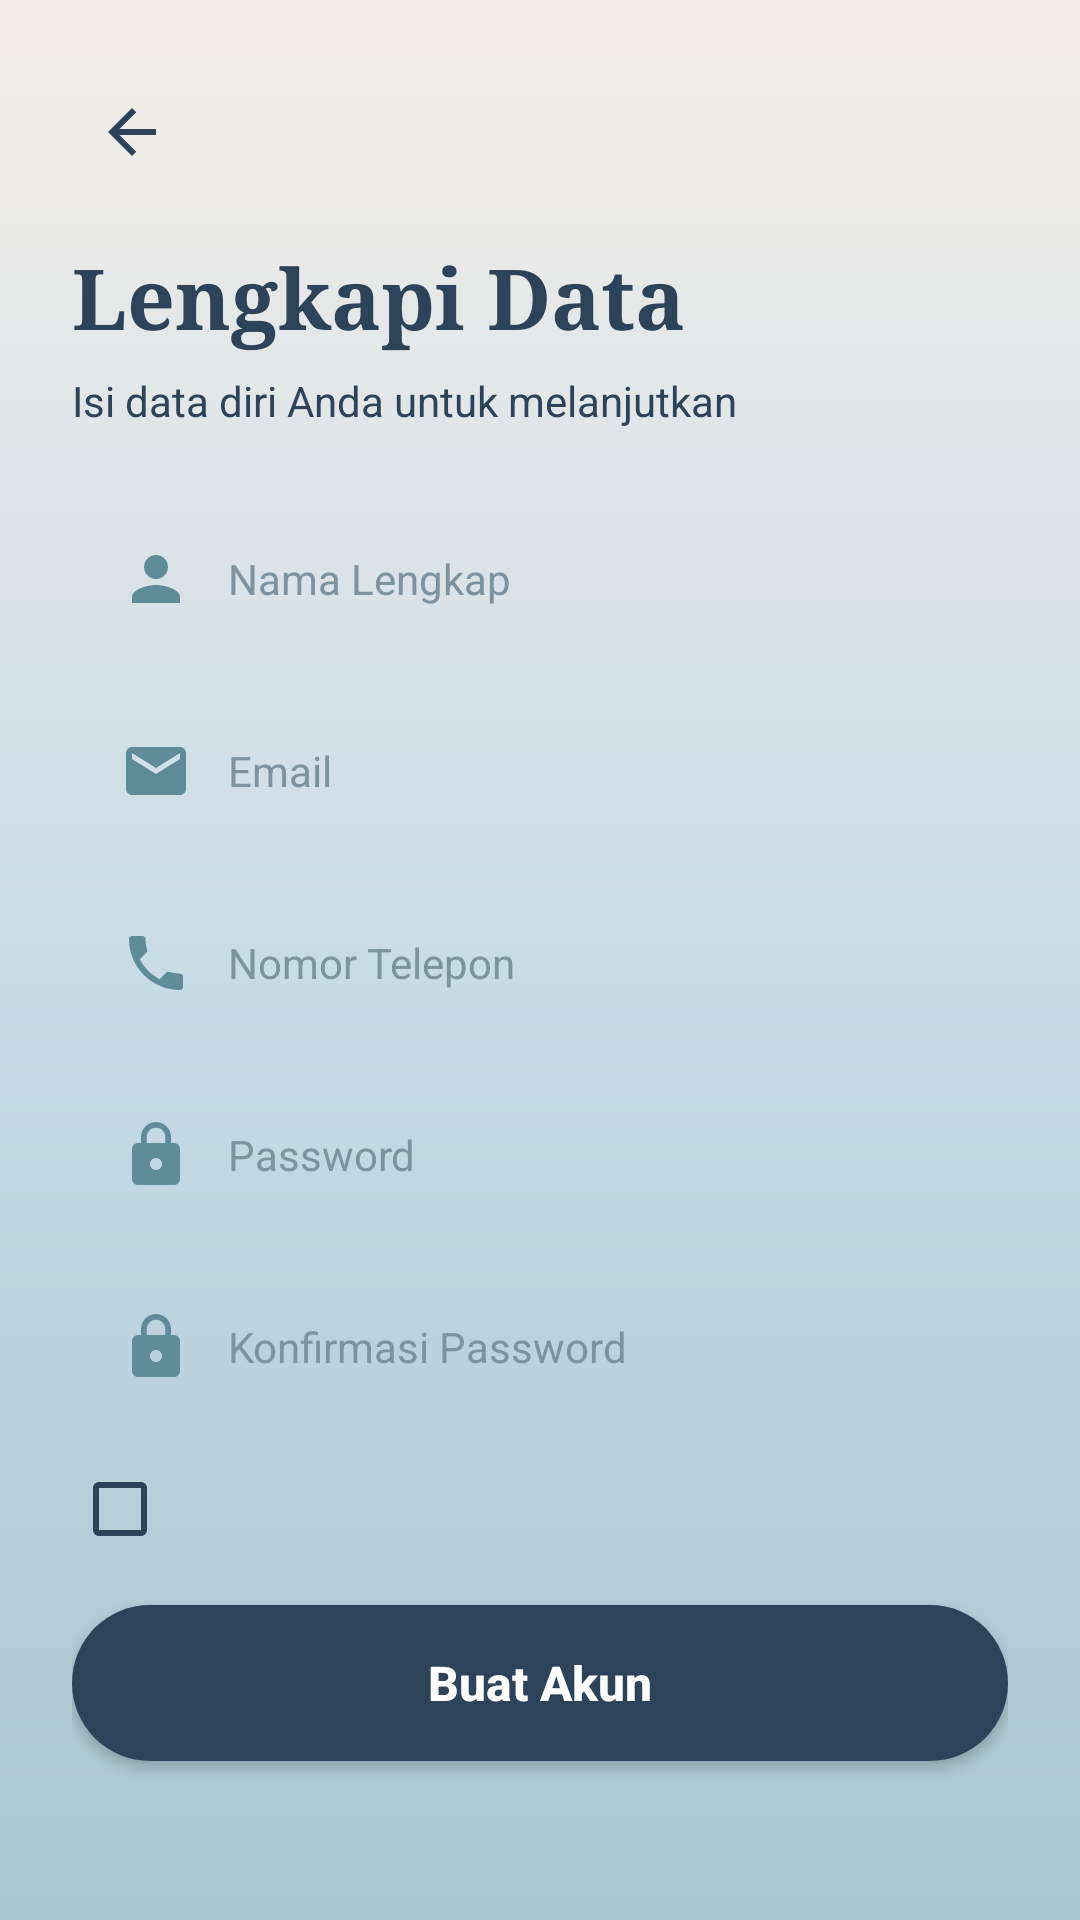

Named icons in this screenshot (1080px x 1920px) and their bounding boxes, (x1, y1, x2, y2):
Kembali: (108, 108, 156, 156)
